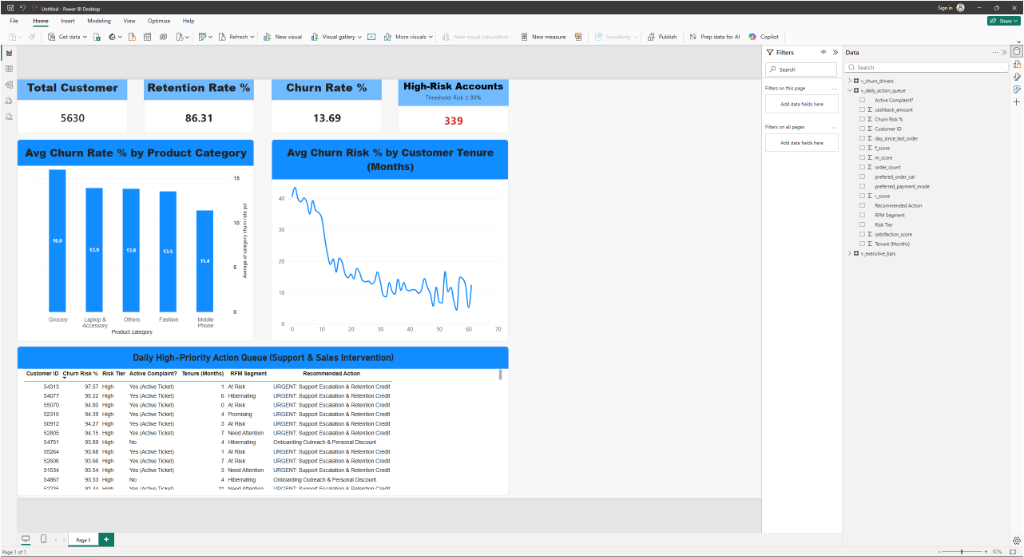

Layout of this report page (visuals, bound fields, positions):
{"tool":"powerbi","page":{"name":"Page 1","canvas":[1920,1080],"ordinal":0},"visuals":[{"type":"cardVisual","title":"Total Customer","fields":{"Data":["Sum(v_executive_kpis.total_customers)"]},"box":[0,0,384.2,139.5],"z":0},{"type":"cardVisual","title":"Retention Rate %","fields":{"Data":["Sum(v_executive_kpis.retention_rate_pct)"]},"box":[1053.7,0,383.2,139.5],"z":1000},{"type":"cardVisual","title":"Churn Rate %","fields":{"Data":["Sum(v_executive_kpis.historical_churn_rate_pct)"]},"box":[480,0,386.3,139.5],"z":2000},{"type":"cardVisual","title":"High-Risk Accounts","fields":{"Data":["Sum(v_executive_kpis.high_risk_customers_count)"]},"box":[1535.8,0,384.2,139.5],"z":3000},{"type":"clusteredColumnChart","title":"Avg Churn Rate % by Product Category","fields":{"Category":["v_churn_drivers.prefered_order_cat"],"Y":["Avg(v_churn_drivers.category_churn_rate_pct)"]},"box":[0,186.4,866.3,486.2],"z":4000},{"type":"lineChart","title":"Avg Churn Risk % by Customer Tenure (Months)","fields":{"Category":["v_daily_action_queue.tenure_months"],"Y":["Avg(v_daily_action_queue.churn_risk_pct)"]},"box":[1053.7,187.4,866.3,485.2],"z":5000},{"type":"tableEx","title":"Daily High-Priority Action Queue (Support & Sales Intervention)","fields":{"Values":["Sum(v_daily_action_queue.customer_id)","Sum(v_daily_action_queue.churn_risk_pct)","v_daily_action_queue.risk_tier","v_daily_action_queue.complaint_status","Sum(v_daily_action_queue.tenure_months)","v_daily_action_queue.rfm_segment","v_daily_action_queue.recommended_action"]},"box":[0,690.3,1920,389.4],"z":6000}]}

Visuals, with their boxes on the page's 1920x1080 design canvas (x1, y1, x2, y2). These are canvas units, not pixel positions in the 1024x557 screenshot, which may show the page scaled, cropped or inside an application window:
"Total Customer" cardVisual: box=[0, 0, 384, 140]
"Retention Rate %" cardVisual: box=[1054, 0, 1437, 140]
"Churn Rate %" cardVisual: box=[480, 0, 866, 140]
"High-Risk Accounts" cardVisual: box=[1536, 0, 1920, 140]
"Avg Churn Rate % by Product Category" clusteredColumnChart: box=[0, 186, 866, 673]
"Avg Churn Risk % by Customer Tenure (Months)" lineChart: box=[1054, 187, 1920, 673]
"Daily High-Priority Action Queue (Support & Sales Intervention)" tableEx: box=[0, 690, 1920, 1080]
